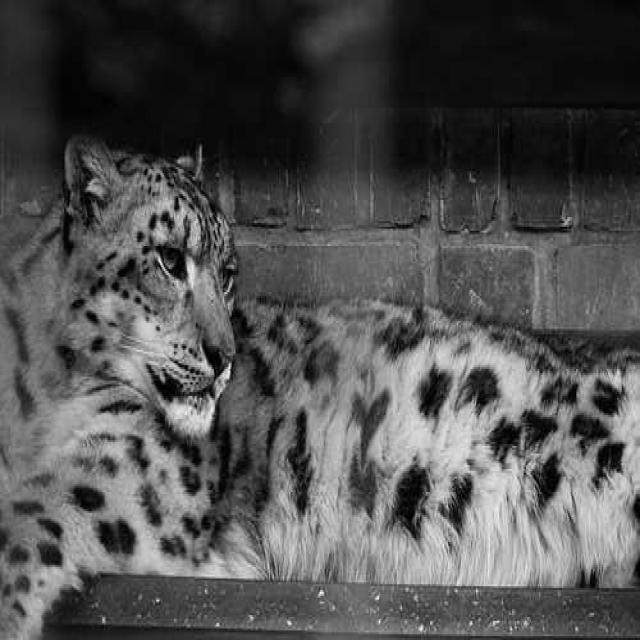Leopard: (16, 104, 566, 597)
